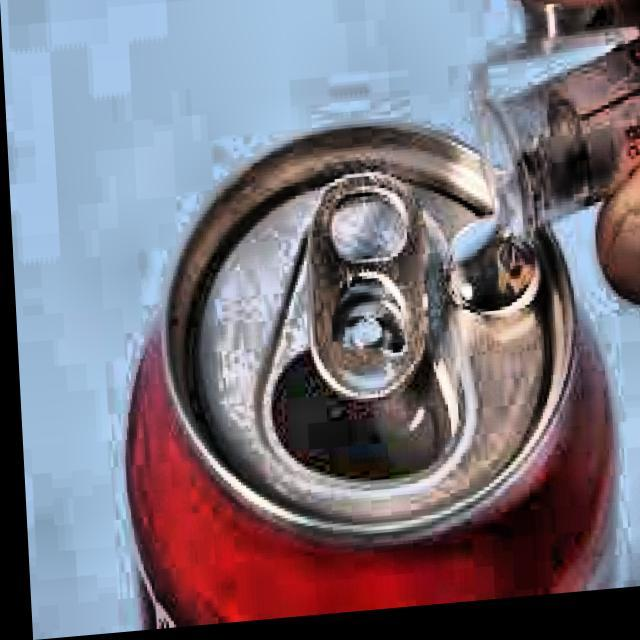can: (102, 72, 628, 633)
